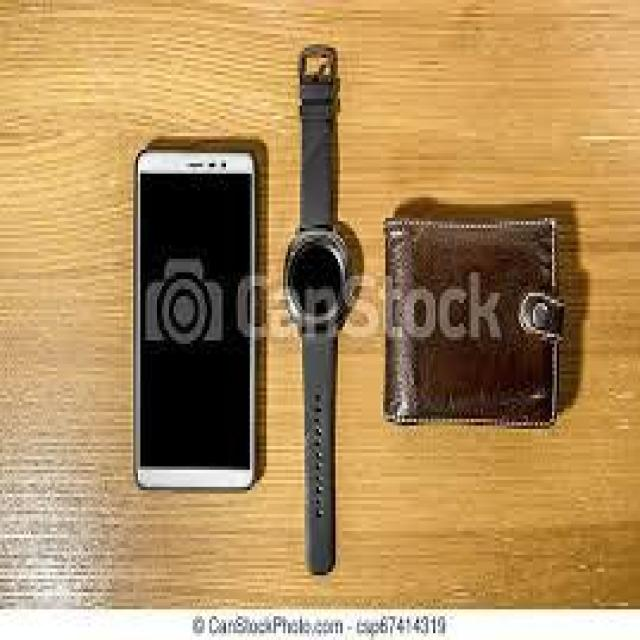smart phone: (86, 67, 268, 503)
watch: (283, 40, 367, 597)
